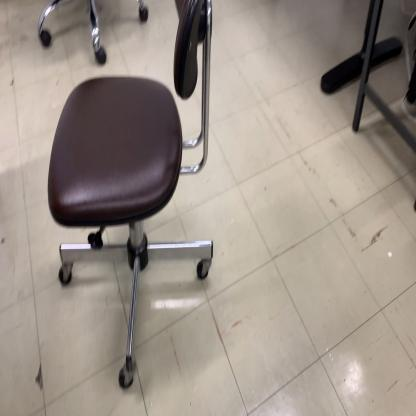chair: (43, 0, 217, 391)
